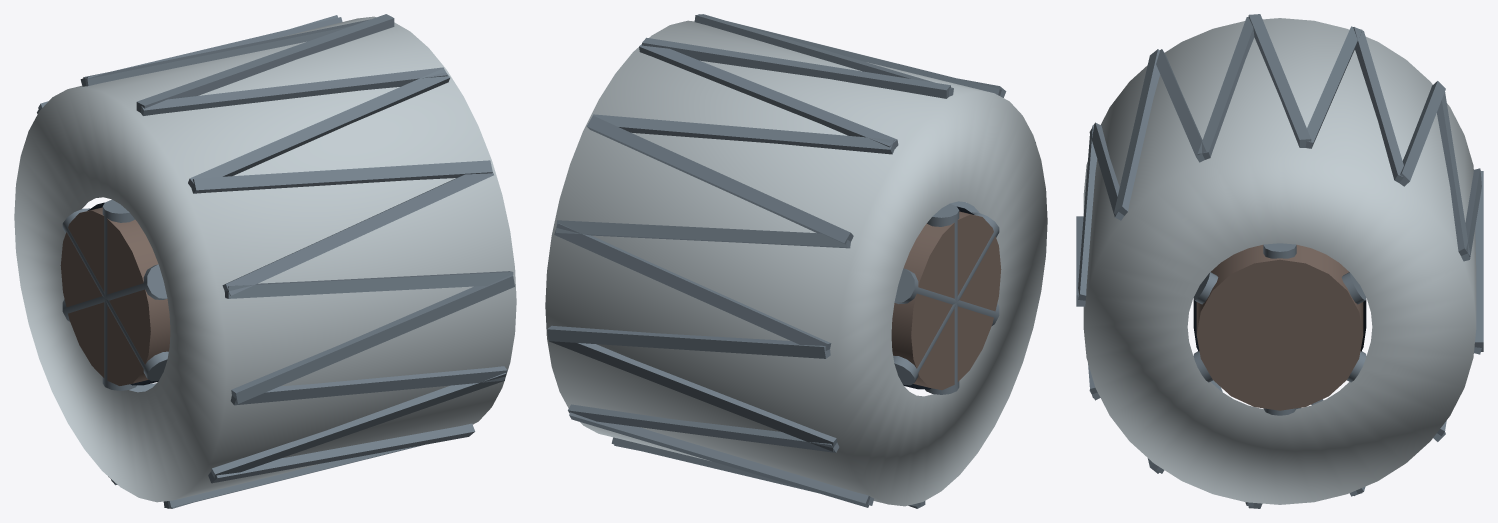
The model's file is curiosity_mobility.rocker_left.steer_front.wheel_front.glb.
3 views of the same model, side by side, from view 1: azimuth 30°, elevation 25°; view 2: azimuth 150°, elevation 25°; view 3: azimuth 270°, elevation 25° (orthographic). The views are drawn at different scales.
Visible parts, largest first — view 1: curiosity_mobility.rocker_left.steer_front.wheel_front.rim.m (×3); view 2: curiosity_mobility.rocker_left.steer_front.wheel_front.rim.m (×3); view 3: curiosity_mobility.rocker_left.steer_front.wheel_front.rim.m (×3).
Part boxes in pixels (box(x1,y1,x2,y2)): curiosity_mobility.rocker_left.steer_front.wheel_front.rim.m (×3): box(14, 14, 516, 508); curiosity_mobility.rocker_left.steer_front.wheel_front.rim.m (×3): box(545, 14, 1047, 508); curiosity_mobility.rocker_left.steer_front.wheel_front.rim.m (×3): box(1076, 14, 1483, 508).
Size of the model in its own units: 0.44 by 0.5182 by 0.5182.
